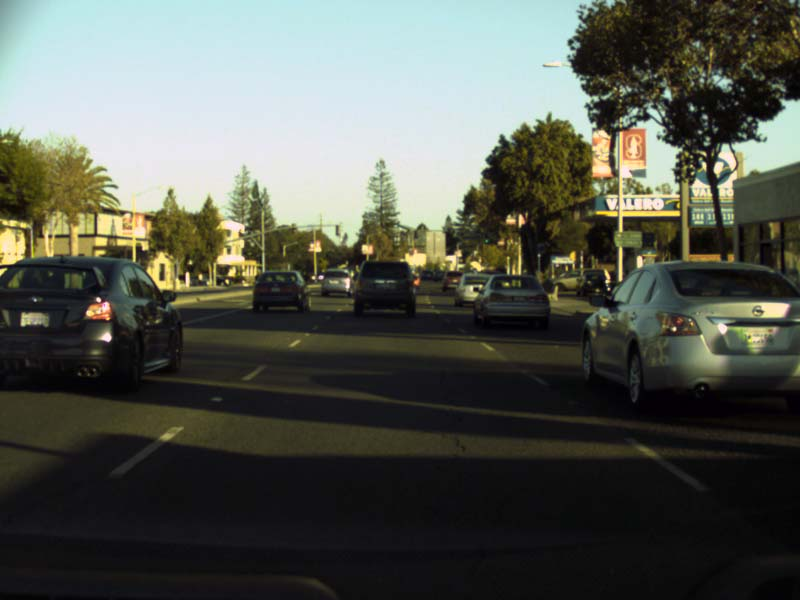Green: (483, 232, 488, 244)
